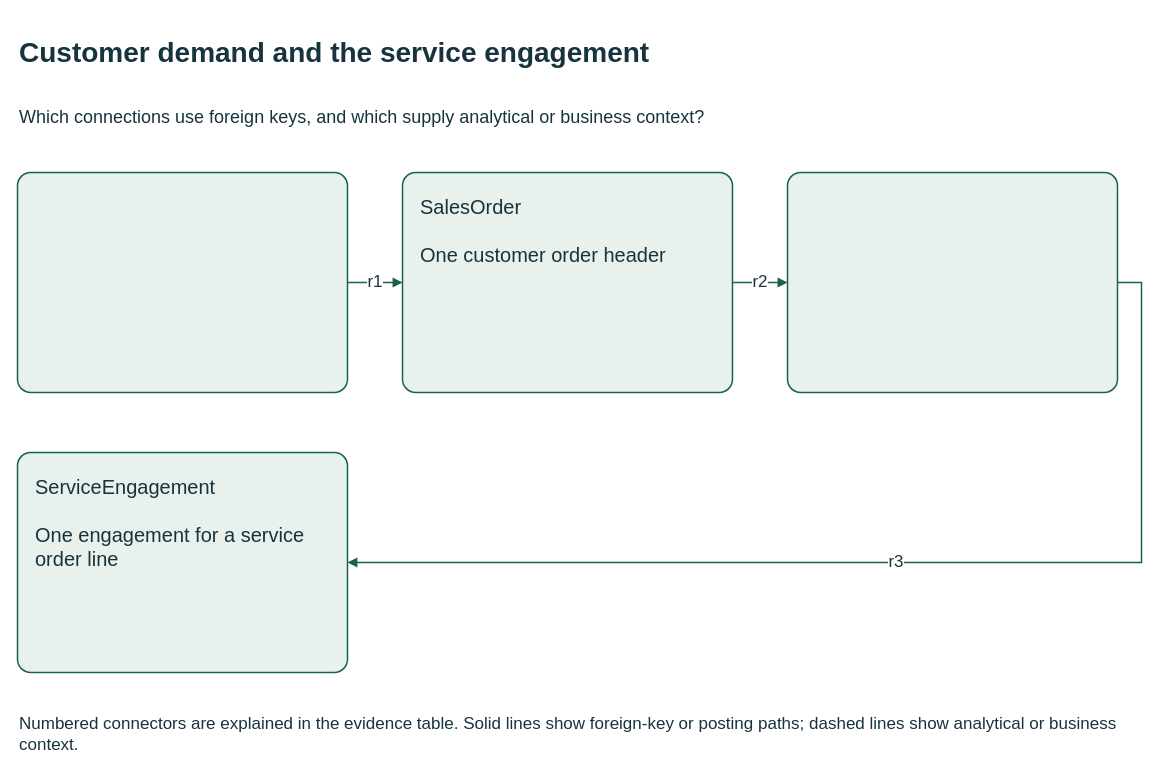
Image size: 1168x781. Some labels were removed from this diagram. Here are the shapes that lost their labels. From the top down, the centre of each, then its label:
At point 182,282: "Customer One customer".
At point 952,282: "SalesOrderLine One ordered item or service line".
